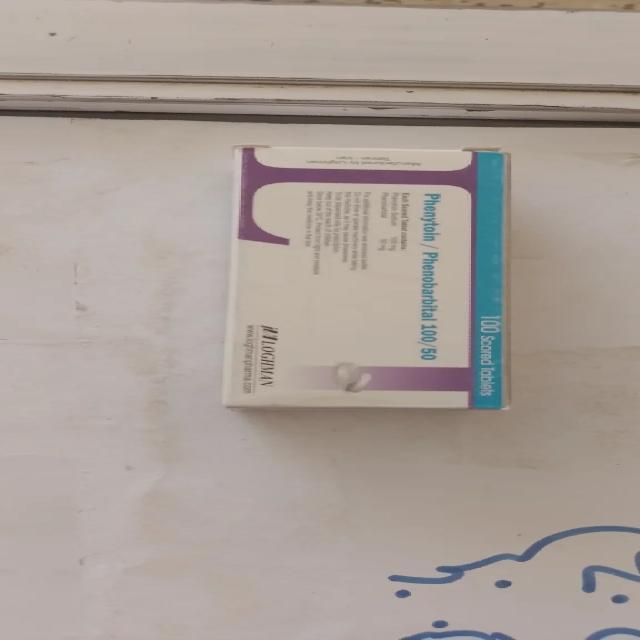drug-name: (416, 190, 440, 361)
